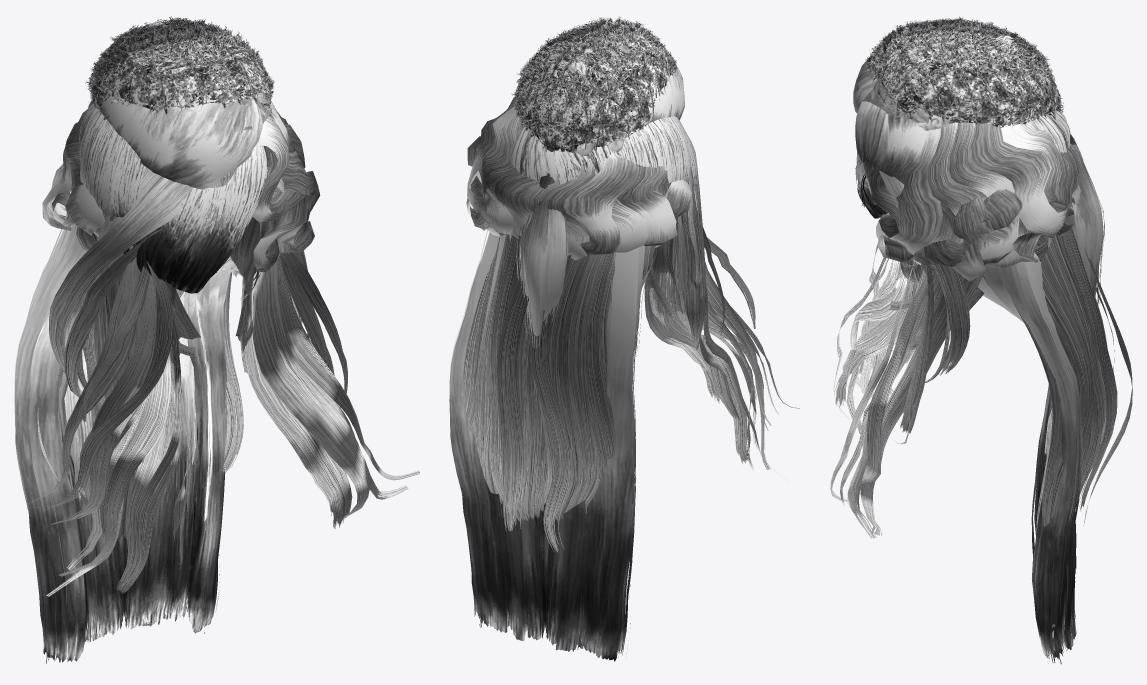
The model's file is hair_mh.glb.
The picture shows the model from 3 angles, left to right: view 1: azimuth 30°, elevation 25°; view 2: azimuth 150°, elevation 25°; view 3: azimuth 270°, elevation 25°; orthographic projection. The views are drawn at different scales.
Parts seen in each view (by area): view 1: f_elvs_hazel_hair, f_long01, f_bob01, m_afro01, f_elvs_wavy_bob, m_short03, f_elvs_katherine_hair, f_bob02; view 2: f_elvs_hazel_hair, f_long01, f_elvs_wavy_bob, m_afro01, f_bob01, f_ponytail01, m_short03, m_short01, f_elvs_katherine_hair; view 3: f_elvs_hazel_hair, f_elvs_wavy_bob, m_afro01, f_long01, f_ponytail01, f_bob01, m_short02, f_elvs_katherine_hair, m_short03, m_short01.
Part boxes in pixels (box(x1,y1,x2,y2)): f_elvs_hazel_hair: box(27, 158, 419, 596); f_long01: box(14, 214, 238, 663); f_bob01: box(78, 103, 267, 293); m_afro01: box(85, 16, 275, 120); f_elvs_wavy_bob: box(42, 100, 320, 272); m_short03: box(98, 71, 262, 189); f_elvs_katherine_hair: box(97, 221, 265, 391); f_bob02: box(152, 217, 269, 299); f_elvs_hazel_hair: box(461, 121, 799, 552); f_long01: box(449, 230, 657, 661); f_elvs_wavy_bob: box(466, 96, 691, 260); m_afro01: box(511, 16, 678, 154); f_bob01: box(509, 116, 691, 184); f_ponytail01: box(516, 173, 568, 348); m_short03: box(640, 64, 684, 124); m_short01: box(533, 48, 624, 98); f_elvs_katherine_hair: box(645, 238, 673, 328); f_elvs_hazel_hair: box(830, 170, 1132, 538); f_elvs_wavy_bob: box(855, 101, 1083, 281); m_afro01: box(865, 16, 1064, 129); f_long01: box(978, 260, 1082, 664); f_ponytail01: box(1068, 133, 1104, 307); f_bob01: box(855, 110, 1070, 218); m_short02: box(856, 28, 953, 124); f_elvs_katherine_hair: box(889, 262, 988, 364); m_short03: box(853, 56, 877, 113); m_short01: box(874, 26, 1023, 94).
Bounding box in the file's own units: 0.4962 × 0.8103 × 0.3627.
16 materials, 16 textured.
